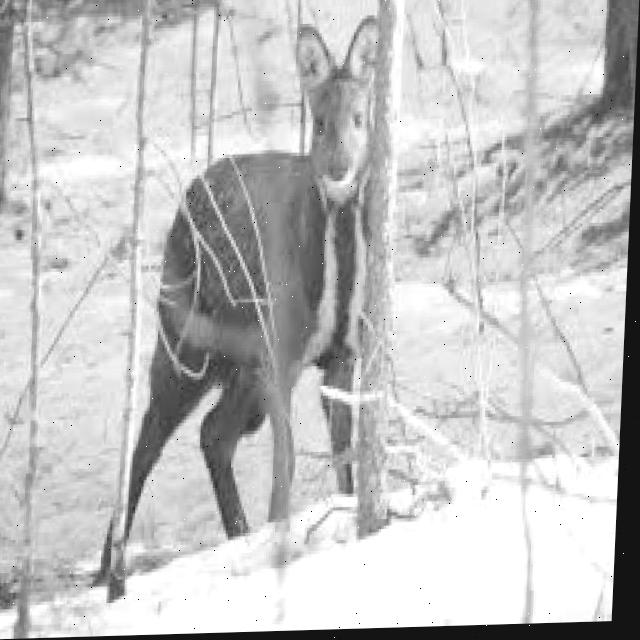Deer: (74, 0, 387, 588)
